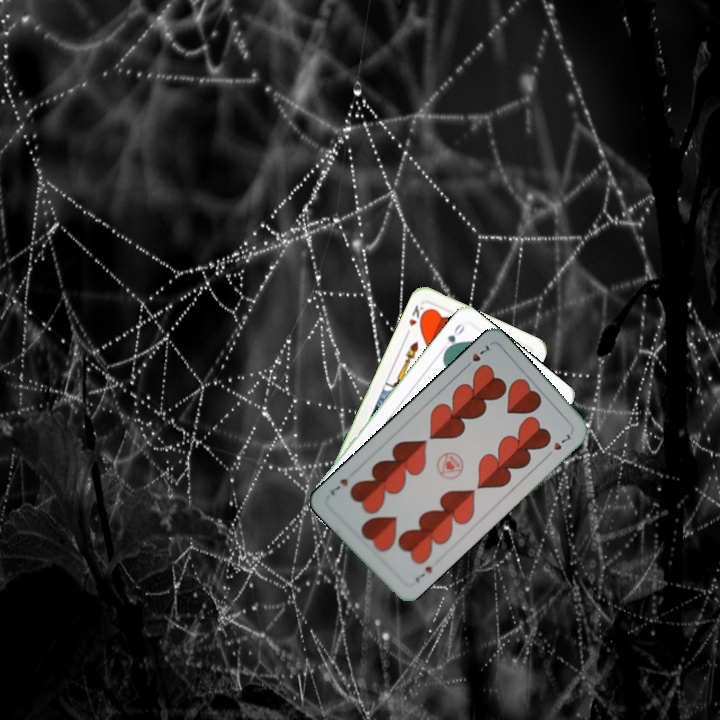GO: (440, 319, 467, 355)
H7: (460, 341, 492, 372), (411, 562, 435, 585)
HK: (401, 301, 430, 338)
